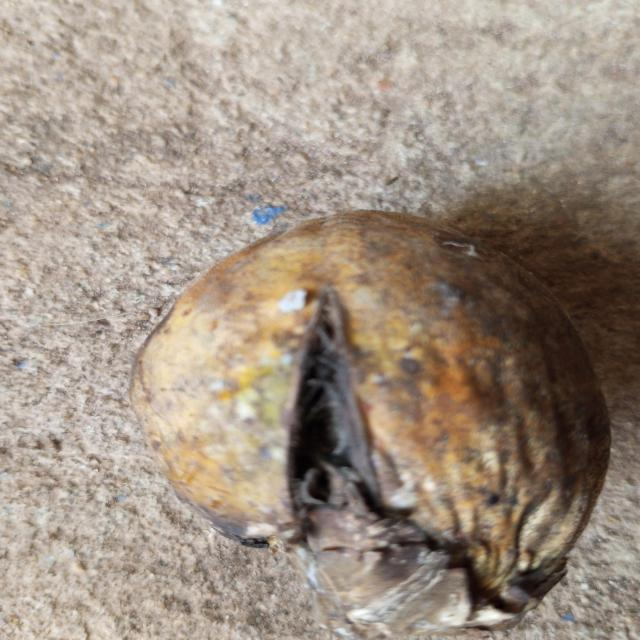damaged: (131, 211, 610, 640)
